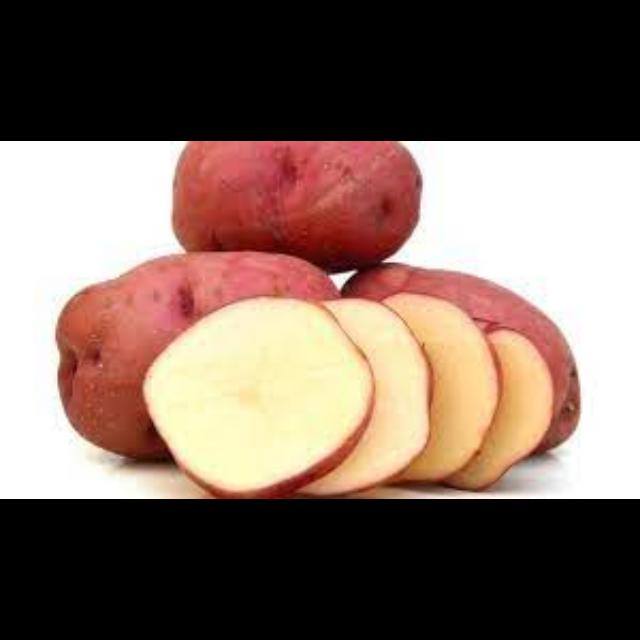Defected potato: (49, 250, 354, 470), (349, 259, 587, 471), (144, 296, 386, 498), (166, 142, 428, 276)
